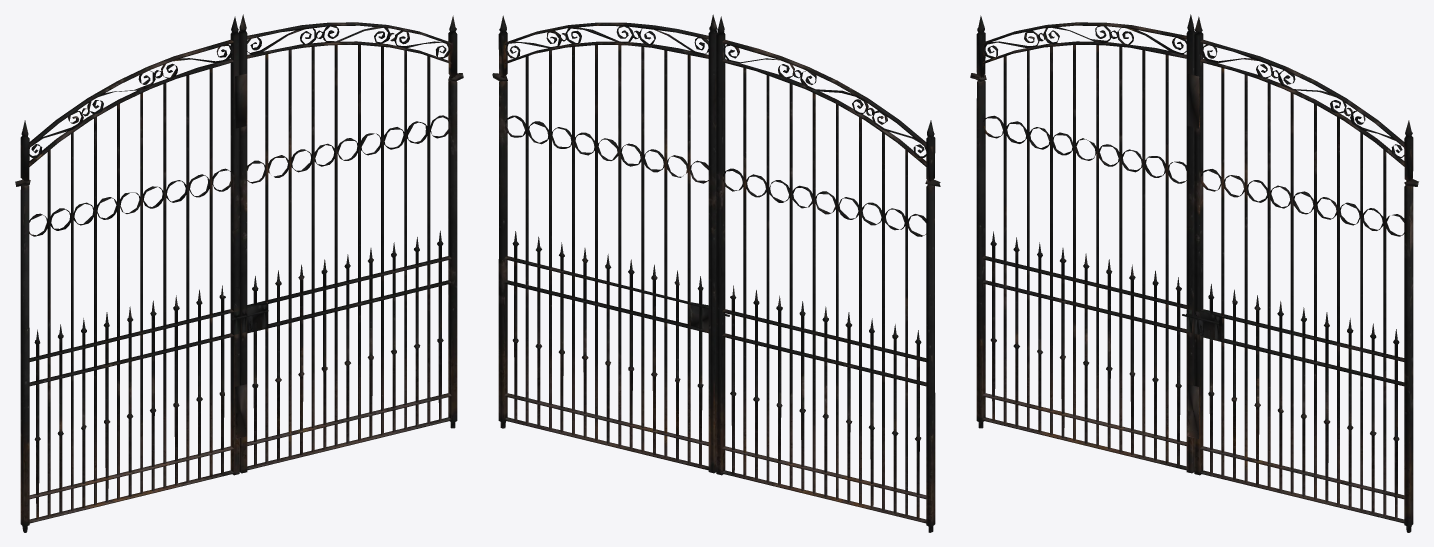
The model's file is large_iron_gate.light.glb.
3 views of the same model, side by side, from view 1: azimuth 30°, elevation 25°; view 2: azimuth 150°, elevation 25°; view 3: azimuth 330°, elevation 25° (orthographic).
Visible parts, largest first — view 1: large_iron_gate_right_door, large_iron_gate_left_door; view 2: large_iron_gate_left_door, large_iron_gate_right_door; view 3: large_iron_gate_right_door, large_iron_gate_left_door.
Part boxes in pixels (left/top/right/bottom): large_iron_gate_right_door: left=235, top=14, right=457, bottom=473; large_iron_gate_left_door: left=20, top=16, right=239, bottom=532; large_iron_gate_left_door: left=716, top=16, right=935, bottom=532; large_iron_gate_right_door: left=498, top=14, right=717, bottom=473; large_iron_gate_right_door: left=1187, top=16, right=1413, bottom=532; large_iron_gate_left_door: left=976, top=14, right=1195, bottom=473.
Size of the model in its own units: 4 by 3.97 by 0.132.
Materials: 1 (1 with a texture image).
